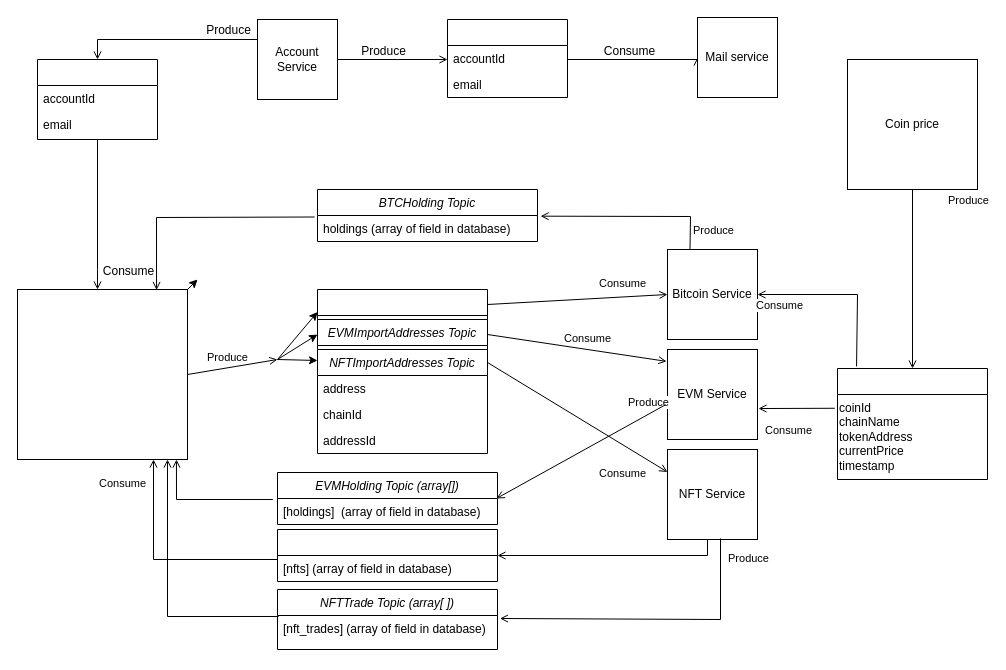
This 1006x670 diagram has some shape labels left out. Here are the shapes that lost their labels. From the top down, the box of each, then its label:
(446, 18, 568, 98): CreateAccounts Topic
(36, 58, 158, 140): CreateAssets Topic
(316, 288, 488, 320): BTCImportAddresses Topic
(16, 288, 188, 460): Asset Service
(836, 368, 988, 480): LatestPrices Topic (array[])
(276, 528, 498, 582): NFT Topic (array[])
